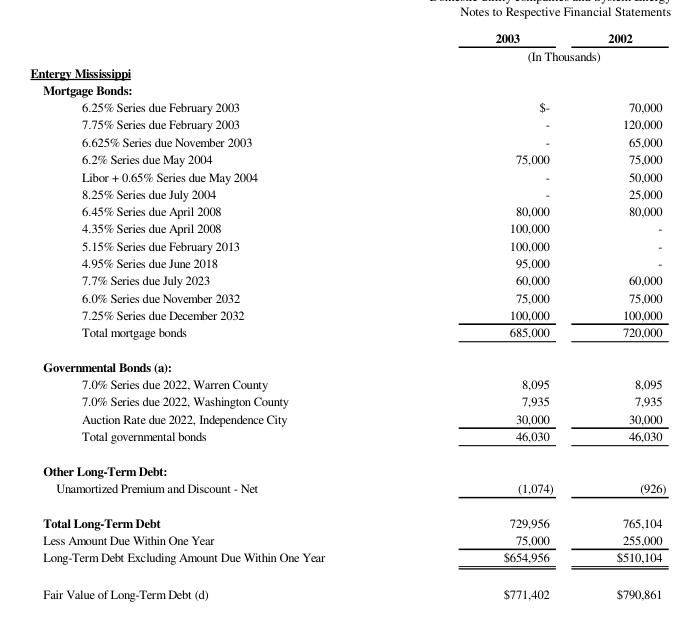table: (29, 28, 665, 601)
table column: (29, 28, 409, 601), (409, 28, 580, 601), (580, 28, 665, 601)
table column header: (29, 28, 665, 63)
table projected row header: (29, 348, 665, 375), (29, 452, 665, 478), (29, 80, 665, 98), (29, 63, 665, 80)
table row: (29, 348, 665, 375), (29, 504, 665, 531), (29, 547, 665, 574), (29, 574, 665, 601), (29, 322, 665, 348), (29, 426, 665, 452), (29, 452, 665, 478), (29, 478, 665, 504), (29, 28, 665, 46), (29, 80, 665, 98), (29, 114, 665, 132), (29, 166, 665, 184), (29, 218, 665, 236), (29, 270, 665, 288), (29, 391, 665, 409), (29, 46, 665, 63), (29, 63, 665, 80), (29, 132, 665, 149), (29, 149, 665, 166), (29, 184, 665, 201), (29, 201, 665, 218), (29, 236, 665, 253), (29, 253, 665, 270), (29, 288, 665, 305), (29, 305, 665, 322), (29, 409, 665, 426), (29, 98, 665, 114), (29, 375, 665, 391), (29, 531, 665, 547)
table spanning cell: (409, 46, 665, 63)
